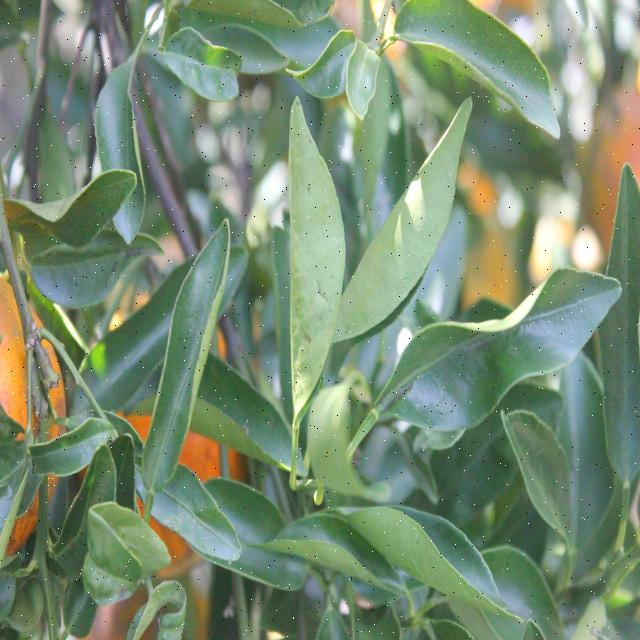healthy: (391, 274, 621, 451), (133, 216, 237, 515), (396, 2, 550, 118), (347, 496, 489, 614), (290, 108, 343, 411), (4, 167, 134, 243)
